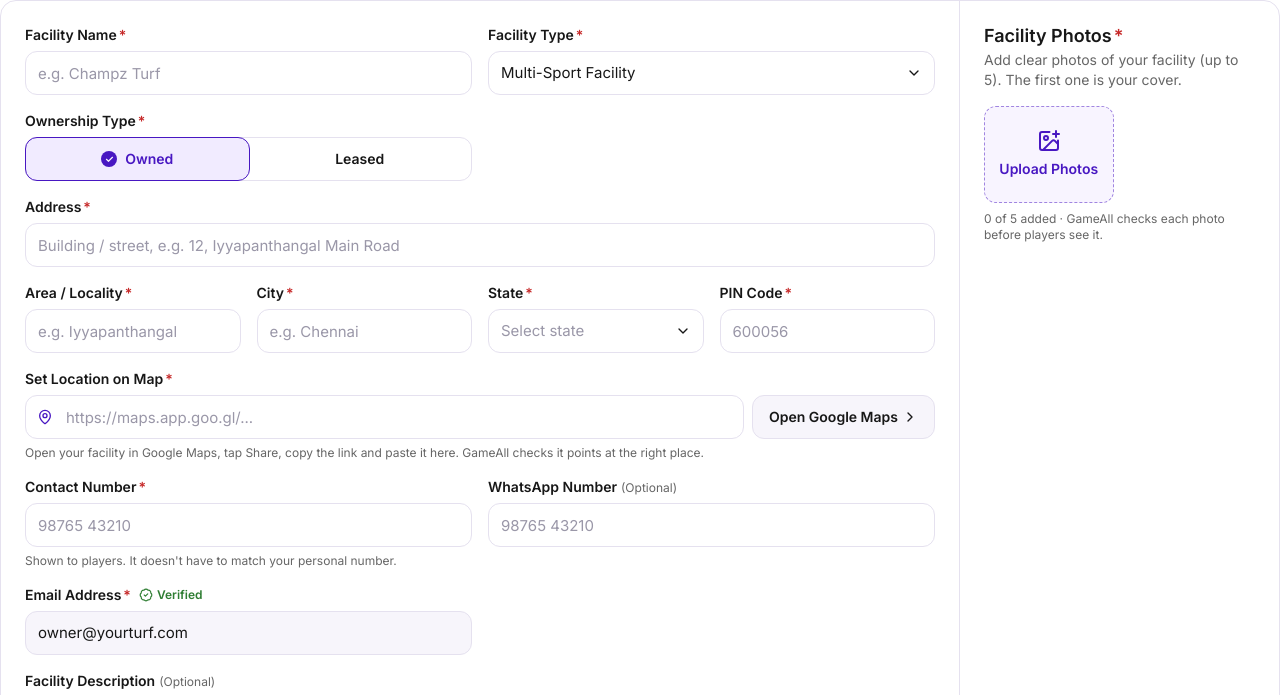
Test case: FacilityDetailsForm › reports an empty facility name on blur
Click the field labelled "Facility Name*": [248, 73] box x1=25 y1=51 x2=472 y2=95
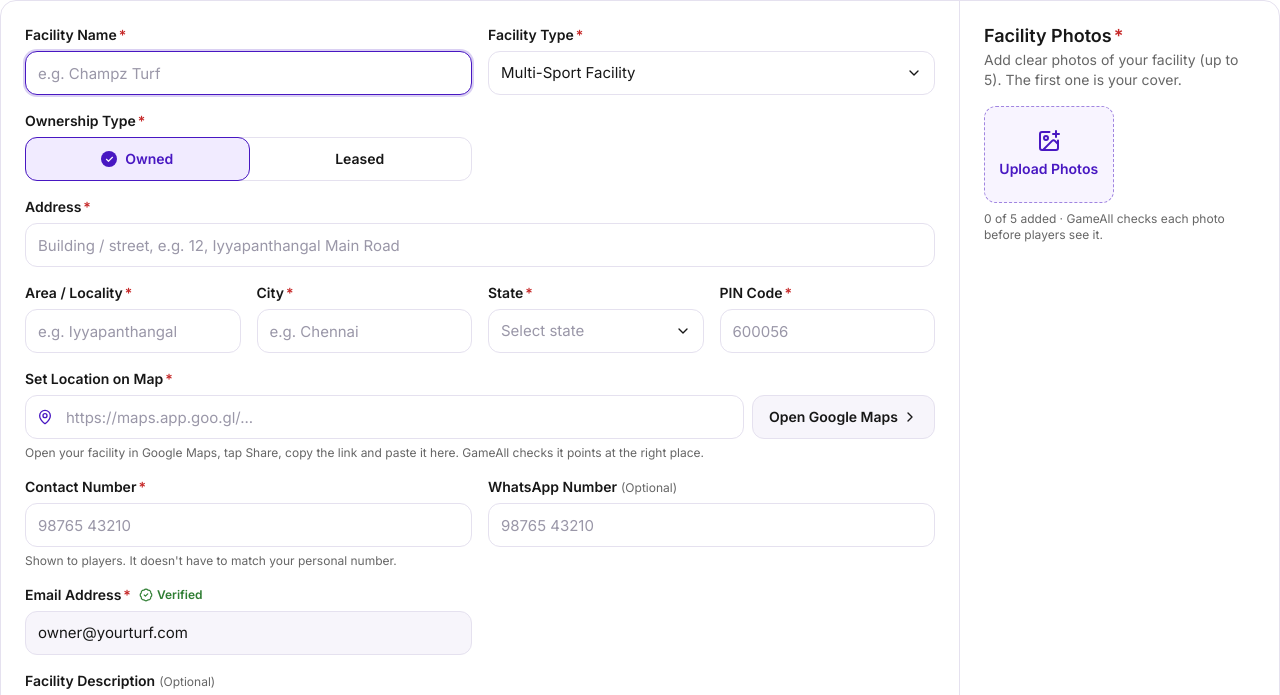
Press Tab
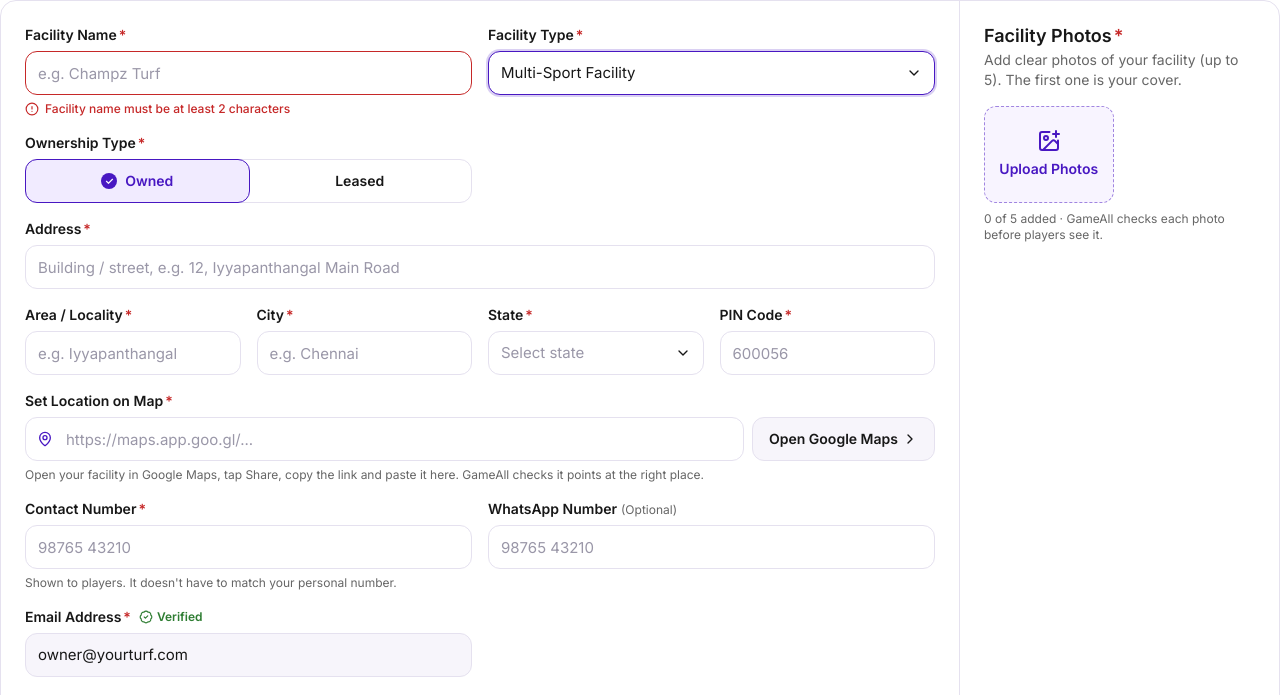
Result: the text "Facility name must be at least 2 characters" is shown at x1=25 y1=101 x2=290 y2=116
